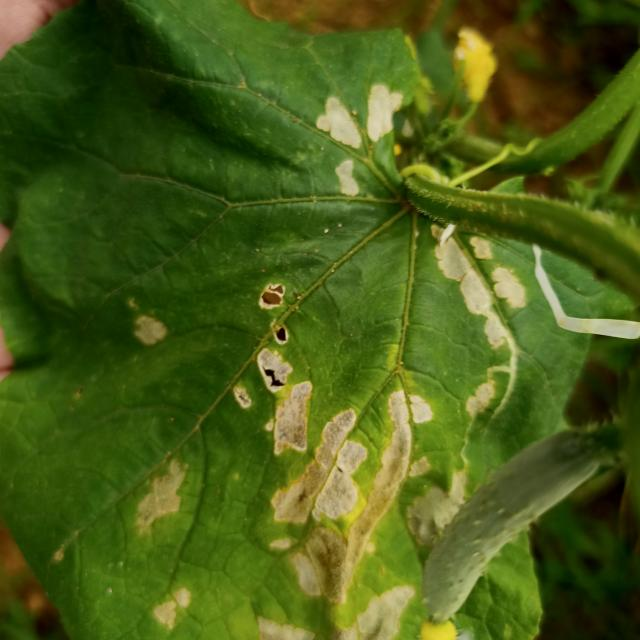disease_cucumber: (131, 223, 527, 635), (314, 79, 410, 197)
